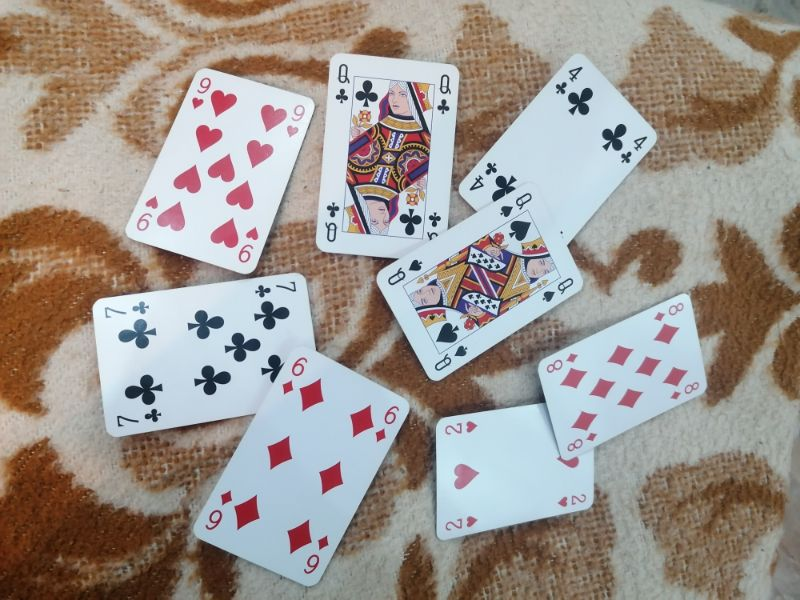2h: (435, 413, 481, 442), (438, 510, 483, 537), (553, 485, 596, 513)
4c: (616, 129, 654, 173), (551, 57, 588, 102), (467, 156, 502, 197)
6d: (201, 484, 235, 535), (299, 530, 332, 580), (279, 351, 312, 400), (372, 398, 404, 448)
7c: (250, 271, 304, 305), (96, 293, 154, 324), (111, 404, 168, 434)
8d: (667, 371, 711, 406), (562, 423, 602, 459), (541, 344, 582, 378), (651, 294, 690, 329)
9h: (235, 224, 265, 268), (133, 195, 164, 236), (186, 71, 215, 114), (282, 101, 311, 139)
Qc: (429, 69, 459, 118), (332, 56, 356, 107), (320, 199, 346, 245)
Qs: (382, 253, 425, 294), (538, 268, 580, 309), (429, 339, 474, 376), (496, 185, 537, 221)
